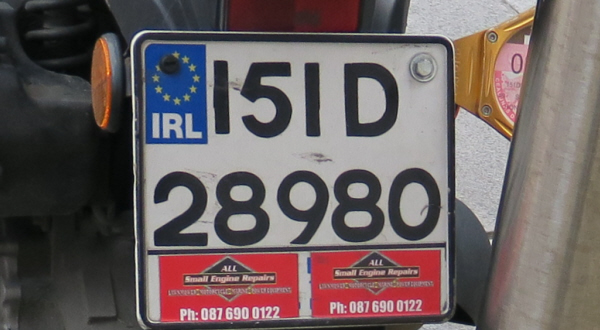license_plate: (129, 34, 451, 330)
